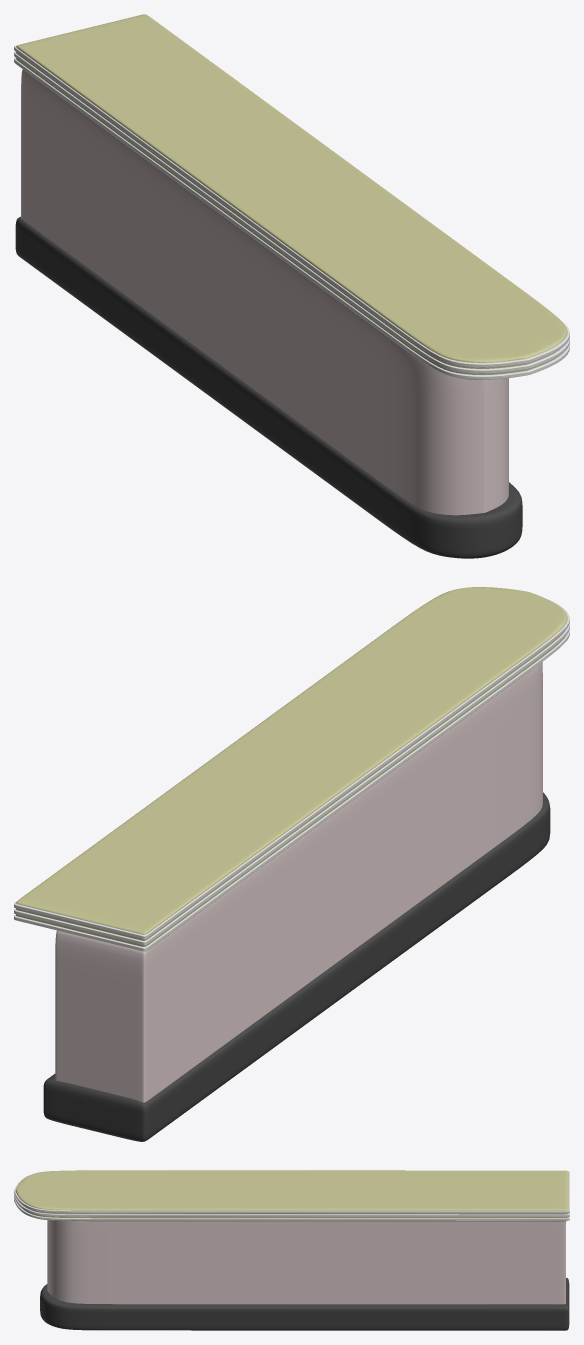
File: kitchen_bar.fbx
3 views of the same model, one above another, from view 1: azimuth 30°, elevation 25°; view 2: azimuth 150°, elevation 25°; view 3: azimuth 270°, elevation 25° (orthographic). The views are drawn at different scales.
Parts seen in each view (by area): view 1: pasted__group1grouppasted__pasted__pasted__partition2, pasted__group1grouppasted__pasted__pasted__partition6, pasted__pasted__pasted__pasted__partition2pasted__pasted__gr, pasted__group1grouppasted__pasted__pasted__partition7, pasted__group1grouppasted__pasted__pasted__partition9, pasted__pasted__pasted__partition8pasted__group1group; view 2: pasted__group1grouppasted__pasted__pasted__partition2, pasted__group1grouppasted__pasted__pasted__partition6, pasted__pasted__pasted__pasted__partition2pasted__pasted__gr, pasted__group1grouppasted__pasted__pasted__partition7, pasted__pasted__pasted__partition8pasted__group1group, pasted__group1grouppasted__pasted__pasted__partition9; view 3: pasted__group1grouppasted__pasted__pasted__partition2, pasted__group1grouppasted__pasted__pasted__partition6, pasted__pasted__pasted__pasted__partition2pasted__pasted__gr, pasted__group1grouppasted__pasted__pasted__partition7, pasted__pasted__pasted__partition8pasted__group1group, pasted__group1grouppasted__pasted__pasted__partition9.
Part boxes in pixels (left/top/right/bottom): pasted__group1grouppasted__pasted__pasted__partition2: left=21, top=69, right=508, bottom=515; pasted__group1grouppasted__pasted__pasted__partition6: left=16, top=14, right=567, bottom=379; pasted__pasted__pasted__pasted__partition2pasted__pasted__gr: left=15, top=216, right=522, bottom=558; pasted__group1grouppasted__pasted__pasted__partition7: left=14, top=45, right=569, bottom=367; pasted__group1grouppasted__pasted__pasted__partition9: left=14, top=52, right=569, bottom=373; pasted__pasted__pasted__partition8pasted__group1group: left=14, top=58, right=569, bottom=379; pasted__group1grouppasted__pasted__pasted__partition2: left=55, top=662, right=542, bottom=1102; pasted__group1grouppasted__pasted__pasted__partition6: left=16, top=587, right=567, bottom=951; pasted__pasted__pasted__pasted__partition2pasted__pasted__gr: left=43, top=792, right=550, bottom=1141; pasted__group1grouppasted__pasted__pasted__partition7: left=14, top=596, right=569, bottom=939; pasted__pasted__pasted__partition8pasted__group1group: left=14, top=630, right=569, bottom=951; pasted__group1grouppasted__pasted__pasted__partition9: left=14, top=624, right=569, bottom=945; pasted__group1grouppasted__pasted__pasted__partition2: left=47, top=1220, right=565, bottom=1304; pasted__group1grouppasted__pasted__pasted__partition6: left=15, top=1170, right=568, bottom=1221; pasted__pasted__pasted__pasted__partition2pasted__pasted__gr: left=40, top=1277, right=569, bottom=1330; pasted__group1grouppasted__pasted__pasted__partition7: left=14, top=1171, right=569, bottom=1213; pasted__pasted__pasted__partition8pasted__group1group: left=14, top=1198, right=569, bottom=1220; pasted__group1grouppasted__pasted__pasted__partition9: left=14, top=1194, right=569, bottom=1216.
Size of the model in its own units: 1.36 by 2.07 by 7.93.
